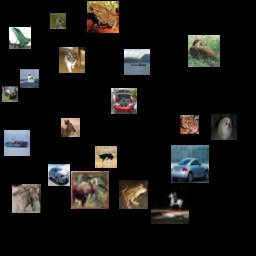automobile: (171, 145, 209, 183), (111, 88, 137, 114), (48, 164, 70, 186), (2, 86, 18, 102)
bird: (95, 146, 117, 168), (50, 13, 66, 29)
deer: (71, 171, 109, 209), (188, 35, 220, 67), (61, 118, 80, 137)
dog: (211, 114, 237, 140), (59, 47, 85, 73)
frog: (87, 1, 119, 33), (119, 180, 148, 209), (180, 115, 199, 134)
ship: (124, 49, 150, 75), (4, 130, 30, 156), (20, 69, 39, 88)
truck: (9, 27, 31, 49)
